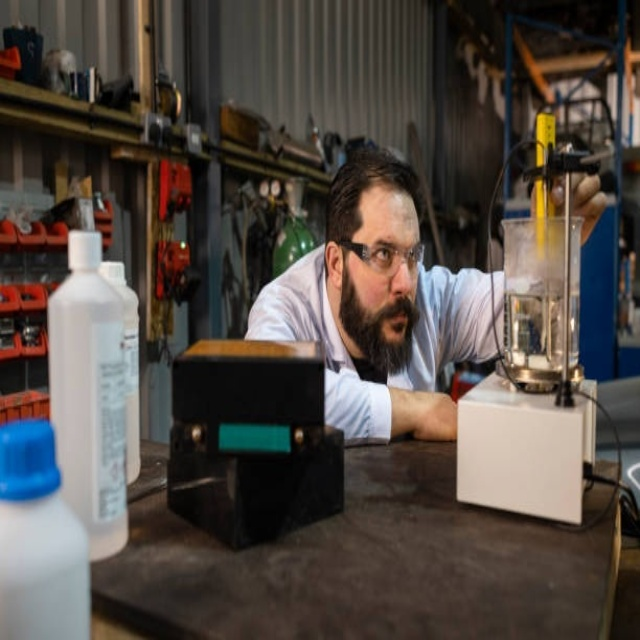Gafas: (339, 237, 425, 278)
Sin_guantes: (545, 168, 610, 244)
Sin_mascara: (374, 300, 416, 351)
